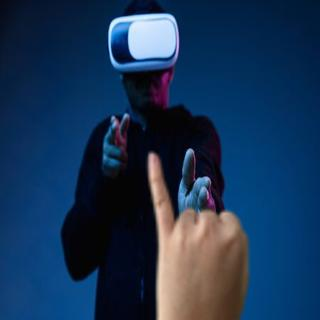FINE: (141, 150, 253, 320)
